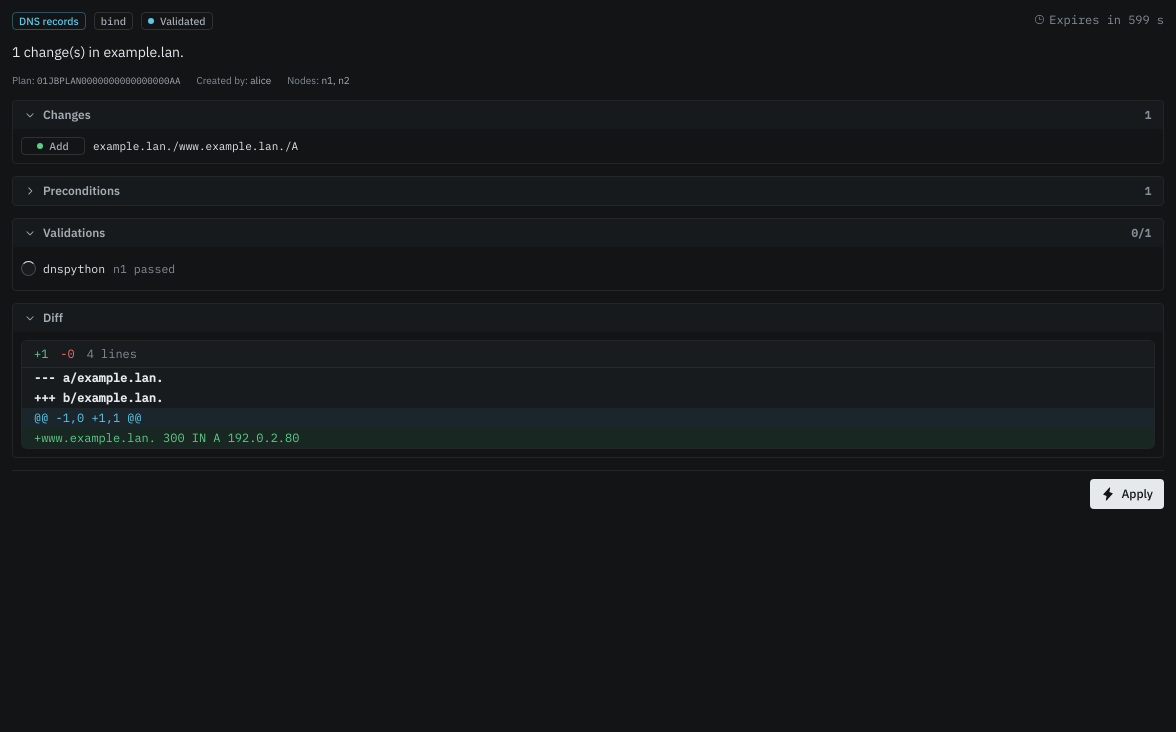
Test: PlanPreview › applies, shows the per-node result, then rolls back
Click the button with test id "plan-apply" at {"x": 1127, "y": 494}, box [1090,479,1164,509]
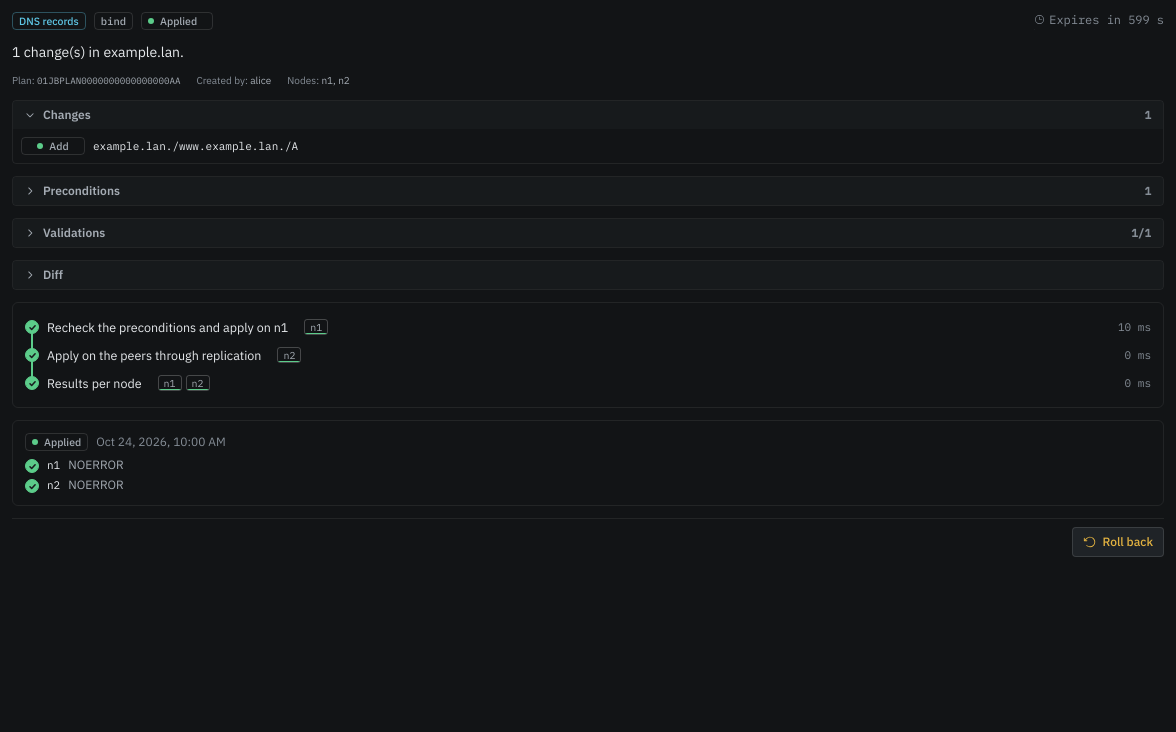
Expected: the element with test id "plan-result" is shown, [12,420,1164,506]
Expected: the button with test id "plan-apply" is gone
Click the button with test id "plan-rollback" at {"x": 1118, "y": 542}, box [1072,527,1164,557]
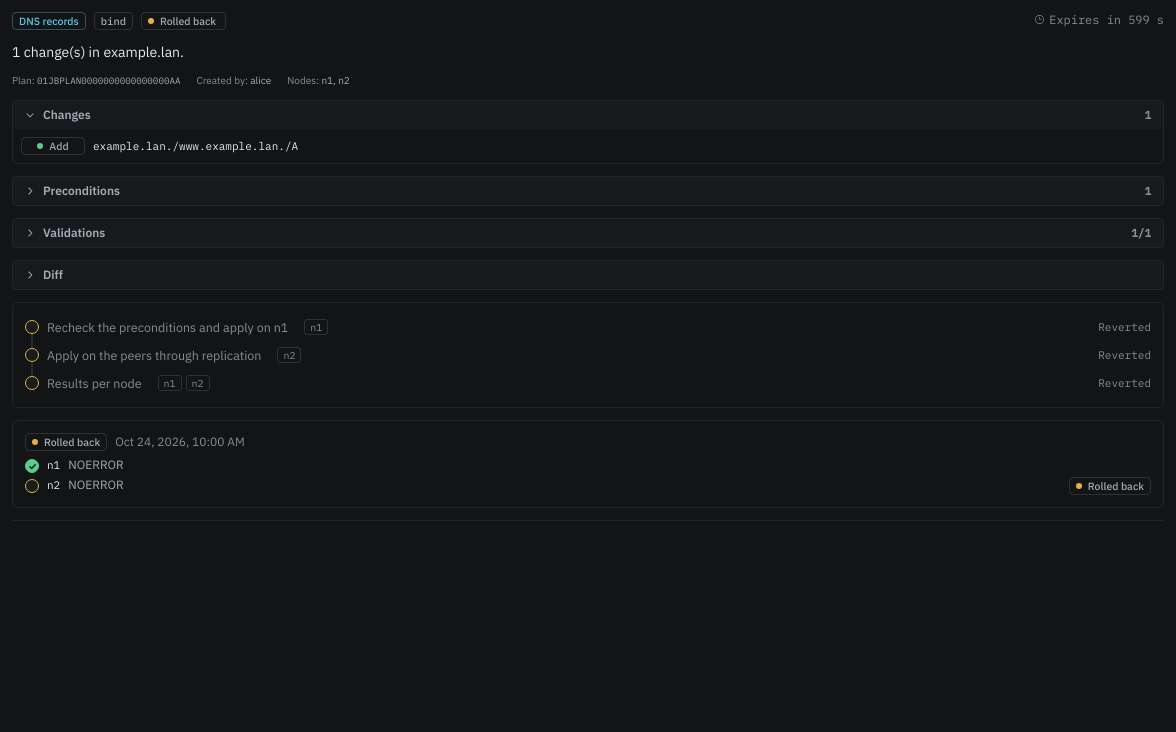
Expected: the button with test id "plan-rollback" is gone
